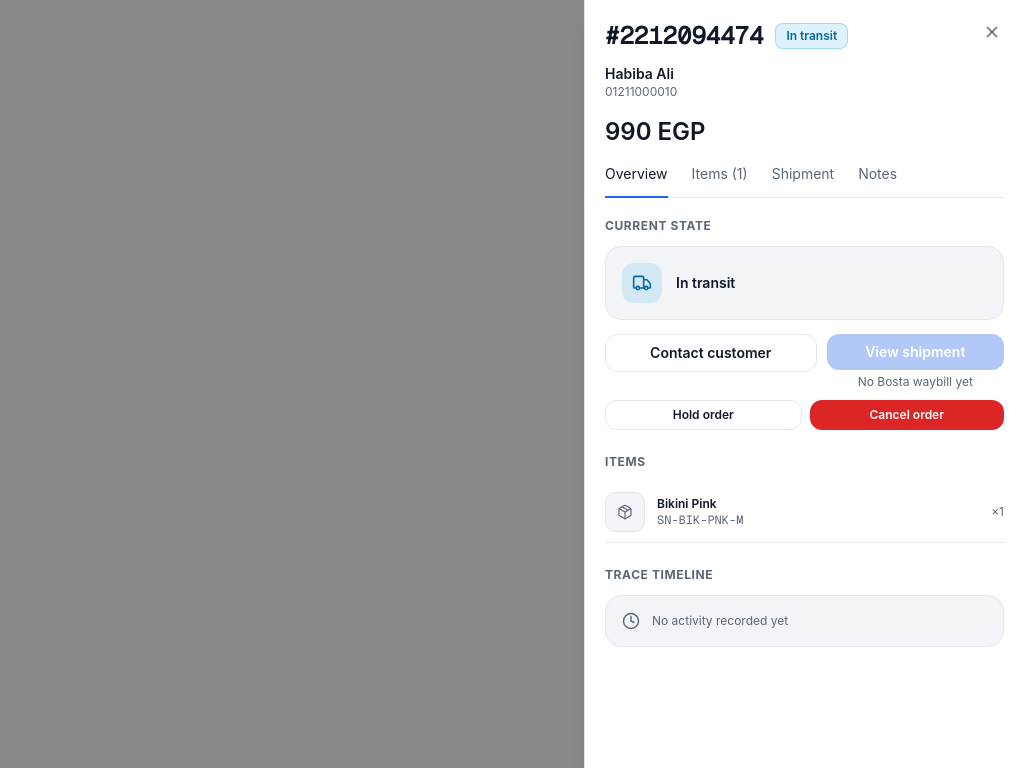
Scenario: genuinely empty notes shows the honest empty state
Expected: the heading "#2212094474" is shown, [605, 20, 763, 52]
Click the button "Notes" at (878, 181), box [858, 164, 897, 198]
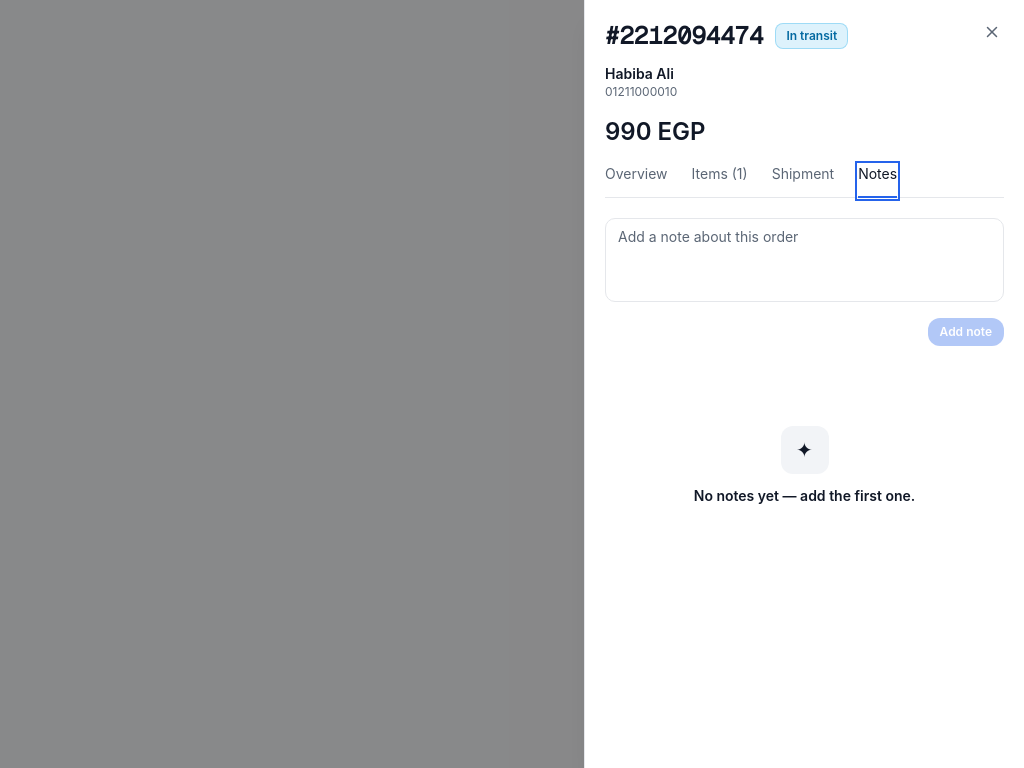
Expected: the text "No notes yet — add the first one." is shown, [694, 486, 915, 506]
